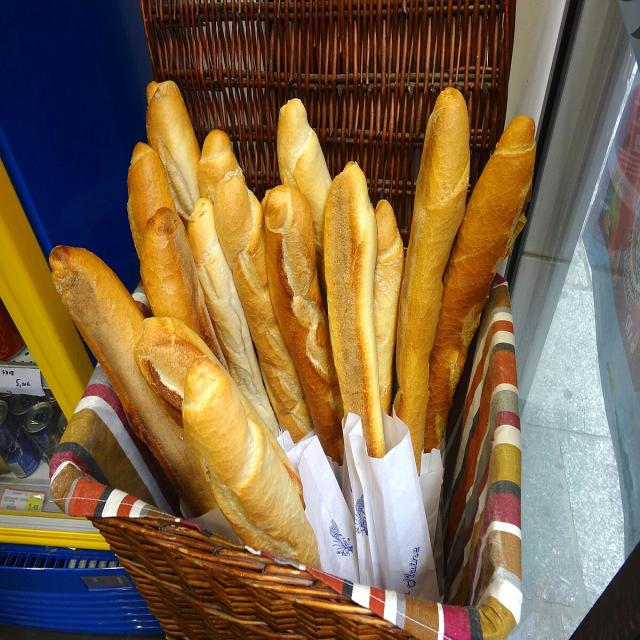Baguette: (50, 246, 213, 508), (425, 117, 534, 452), (182, 356, 319, 567), (396, 87, 469, 472), (213, 171, 310, 436), (262, 185, 342, 463), (188, 198, 278, 429), (324, 161, 386, 457), (141, 208, 225, 365), (277, 99, 331, 300), (135, 316, 224, 427), (146, 80, 201, 215), (374, 200, 404, 412), (128, 143, 177, 259), (199, 129, 238, 201)
